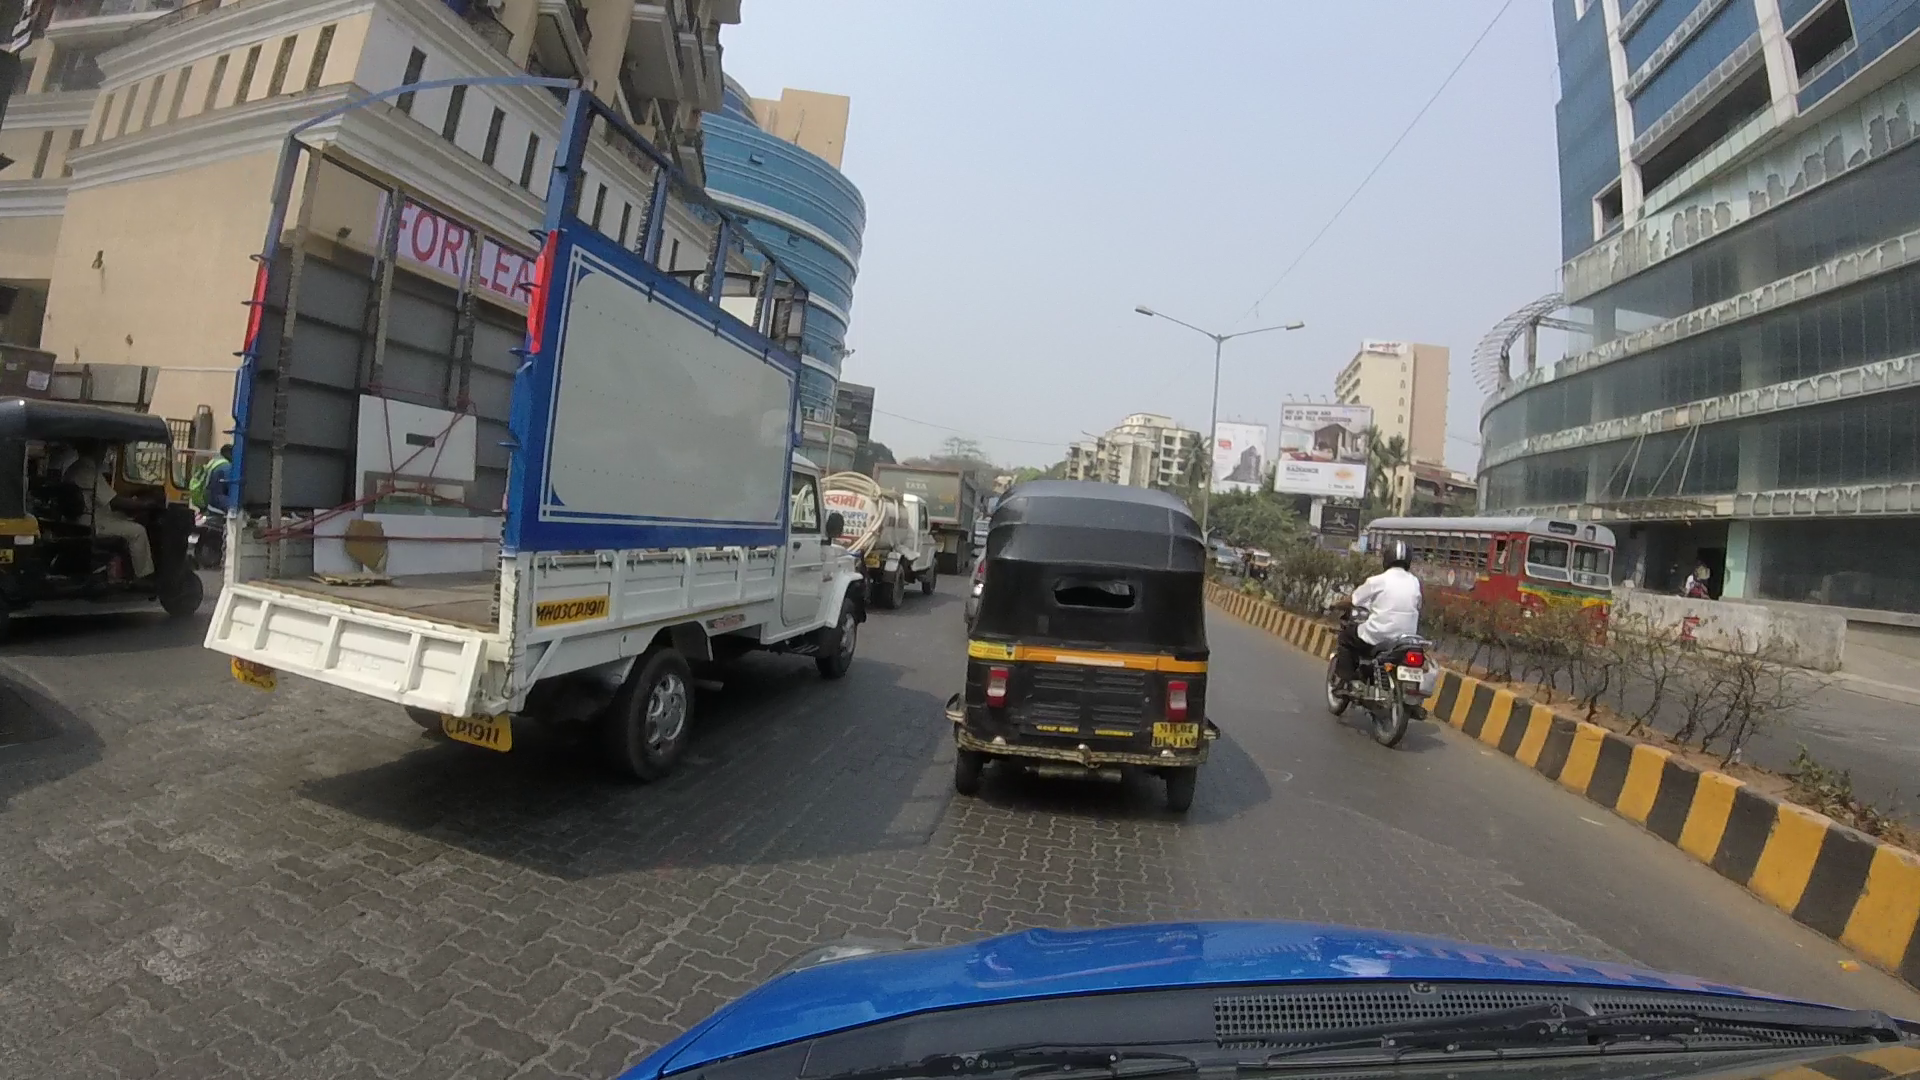bike/scooter: (1323, 549, 1431, 752)
bus: (1361, 495, 1622, 645)
rickshaw: (972, 487, 1211, 816), (11, 392, 202, 624)
truck: (202, 73, 881, 757)
